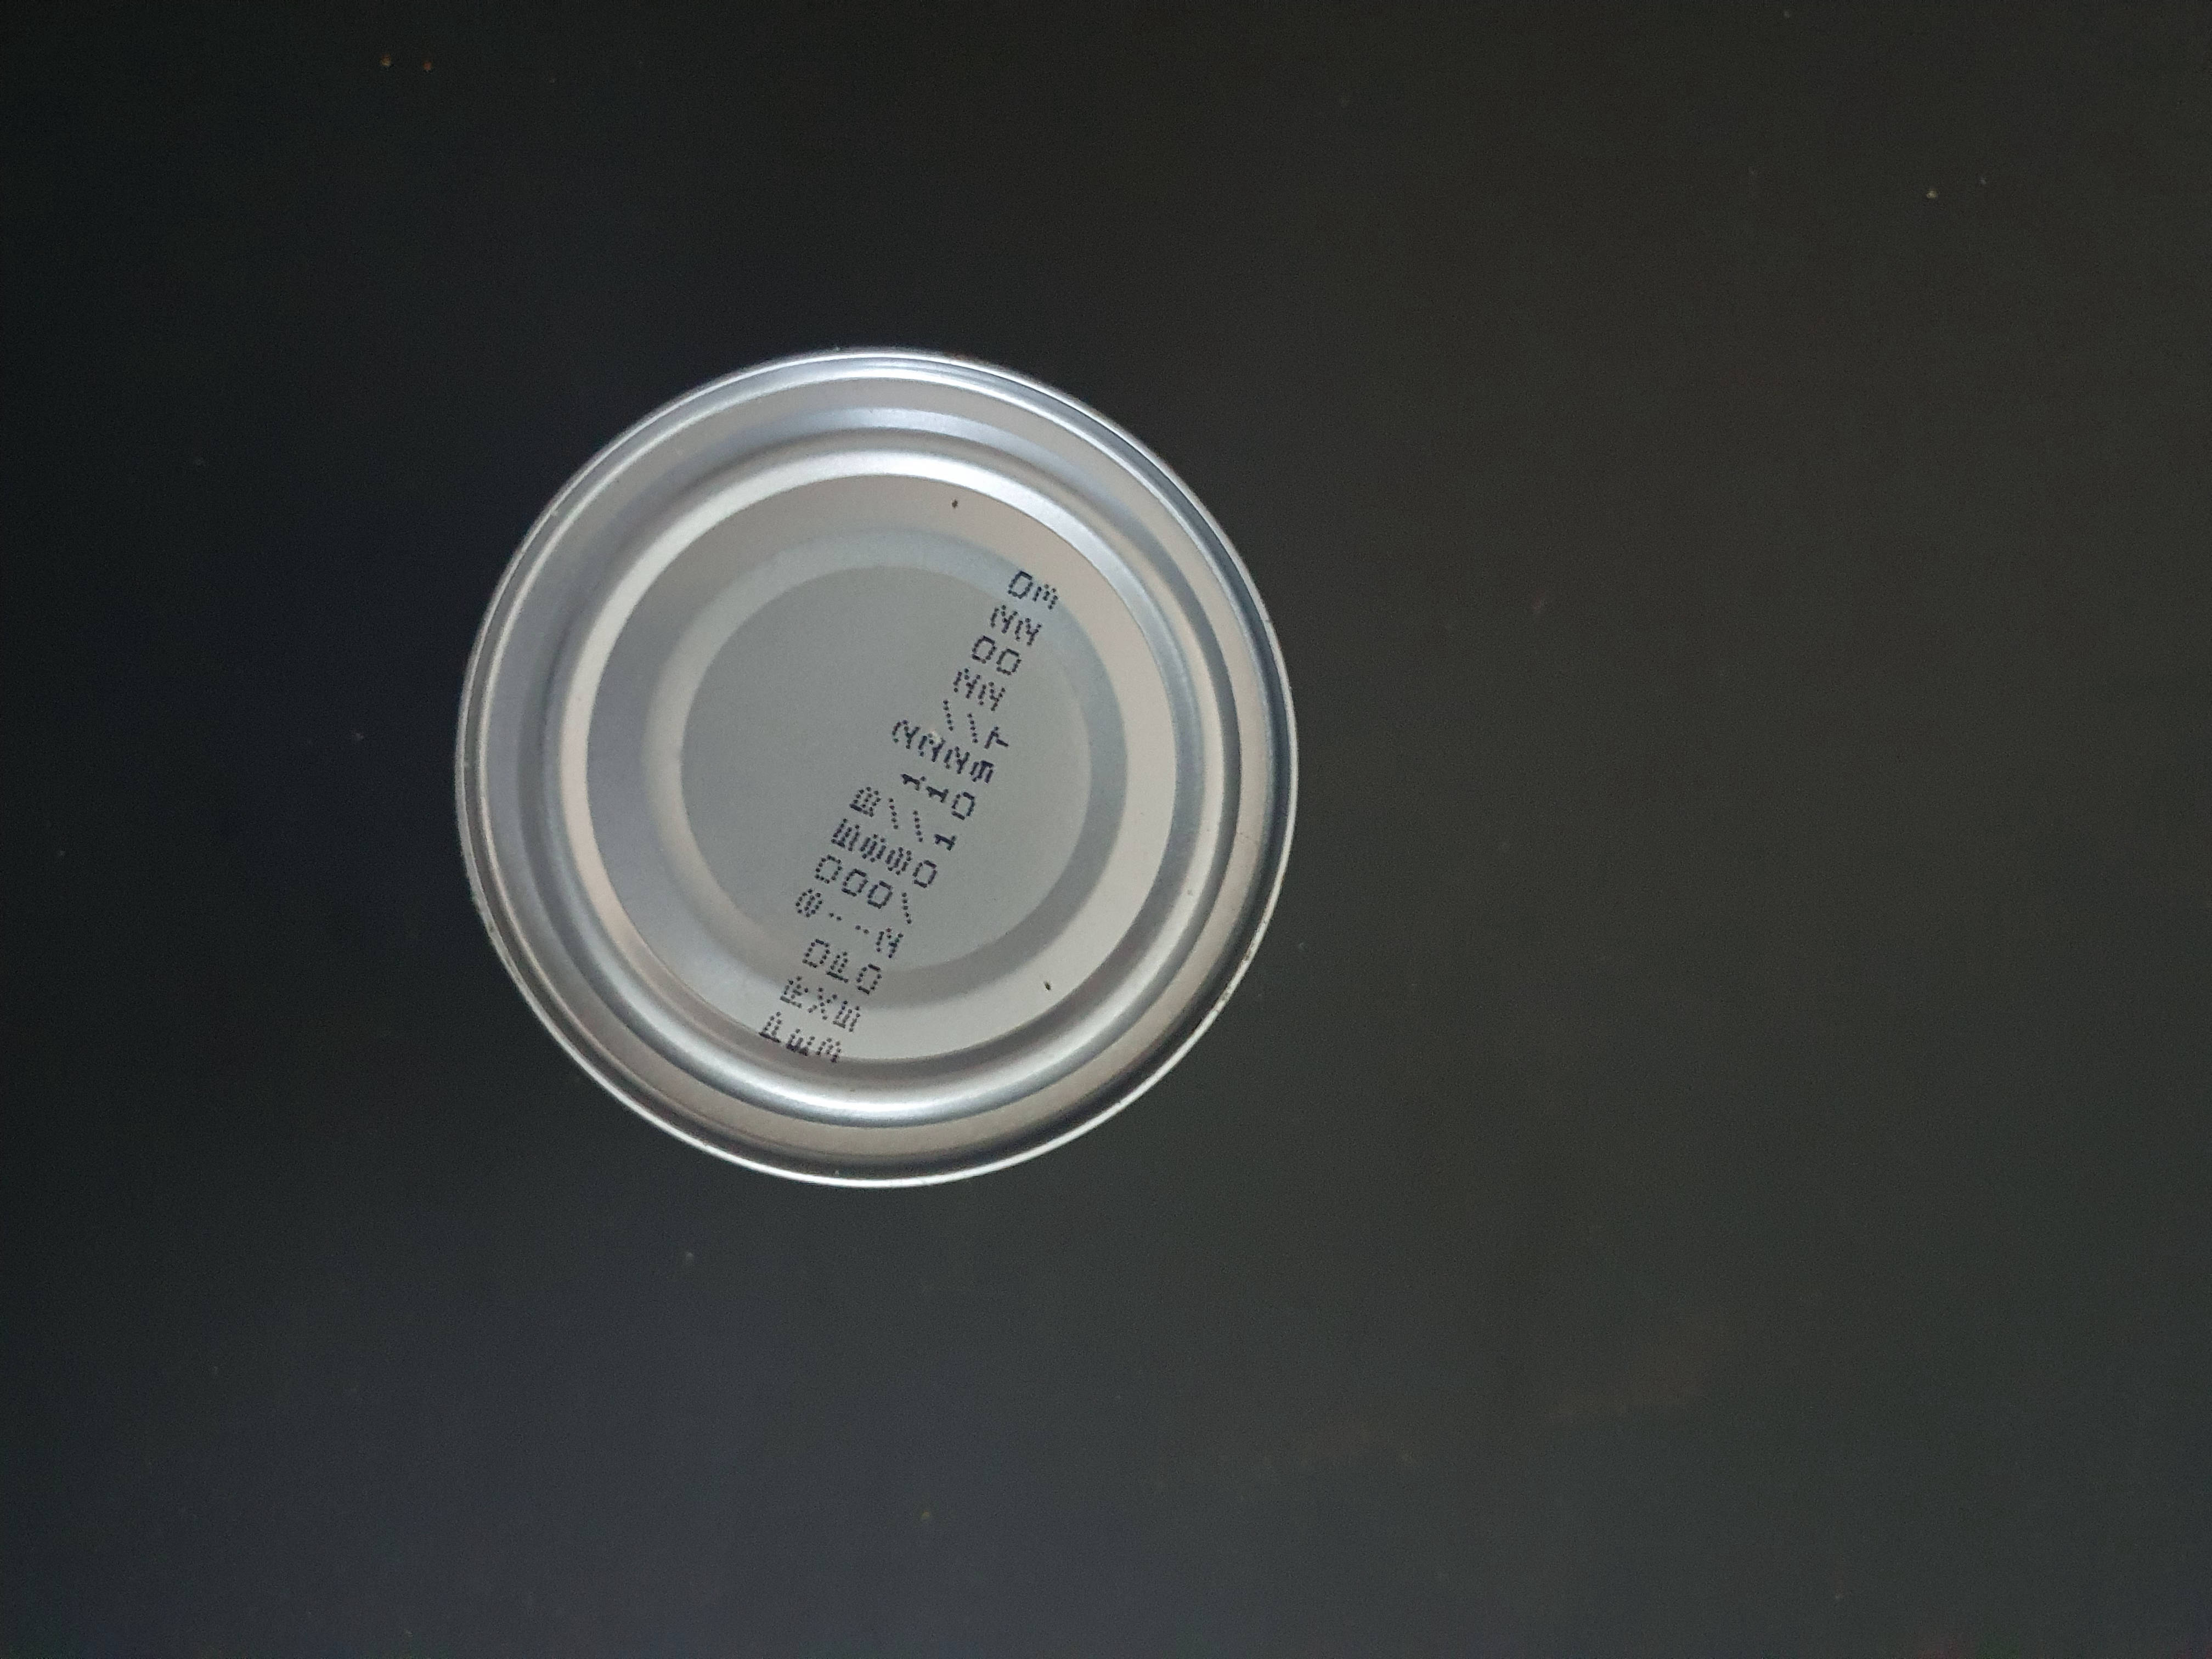metal: (425, 301, 1325, 1234)
